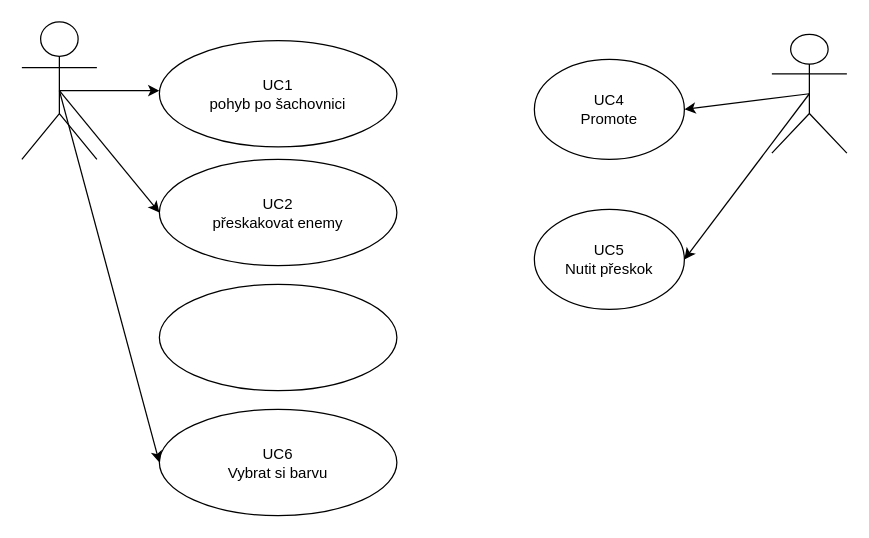
Some shapes in this 869 by 538 pixel diagram are drawn without their labels. The centre of each missing label's shape, as x and y in pixels:
Hráč: the point at 59,90
Robot: the point at 809,93
UC3 Vzdát se: the point at 277,337
